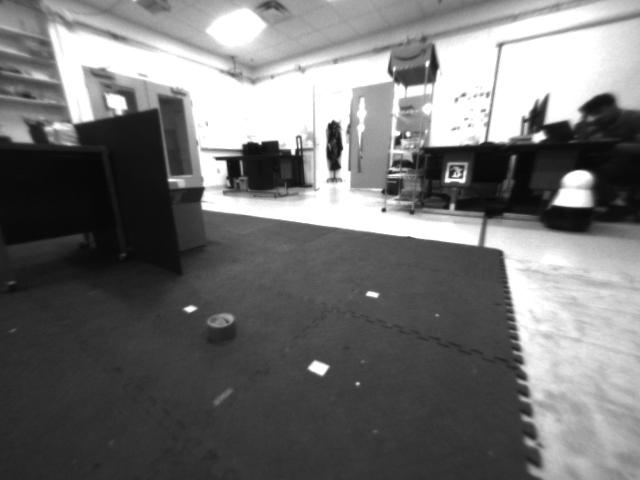dogtoy: (192, 305, 243, 354)
